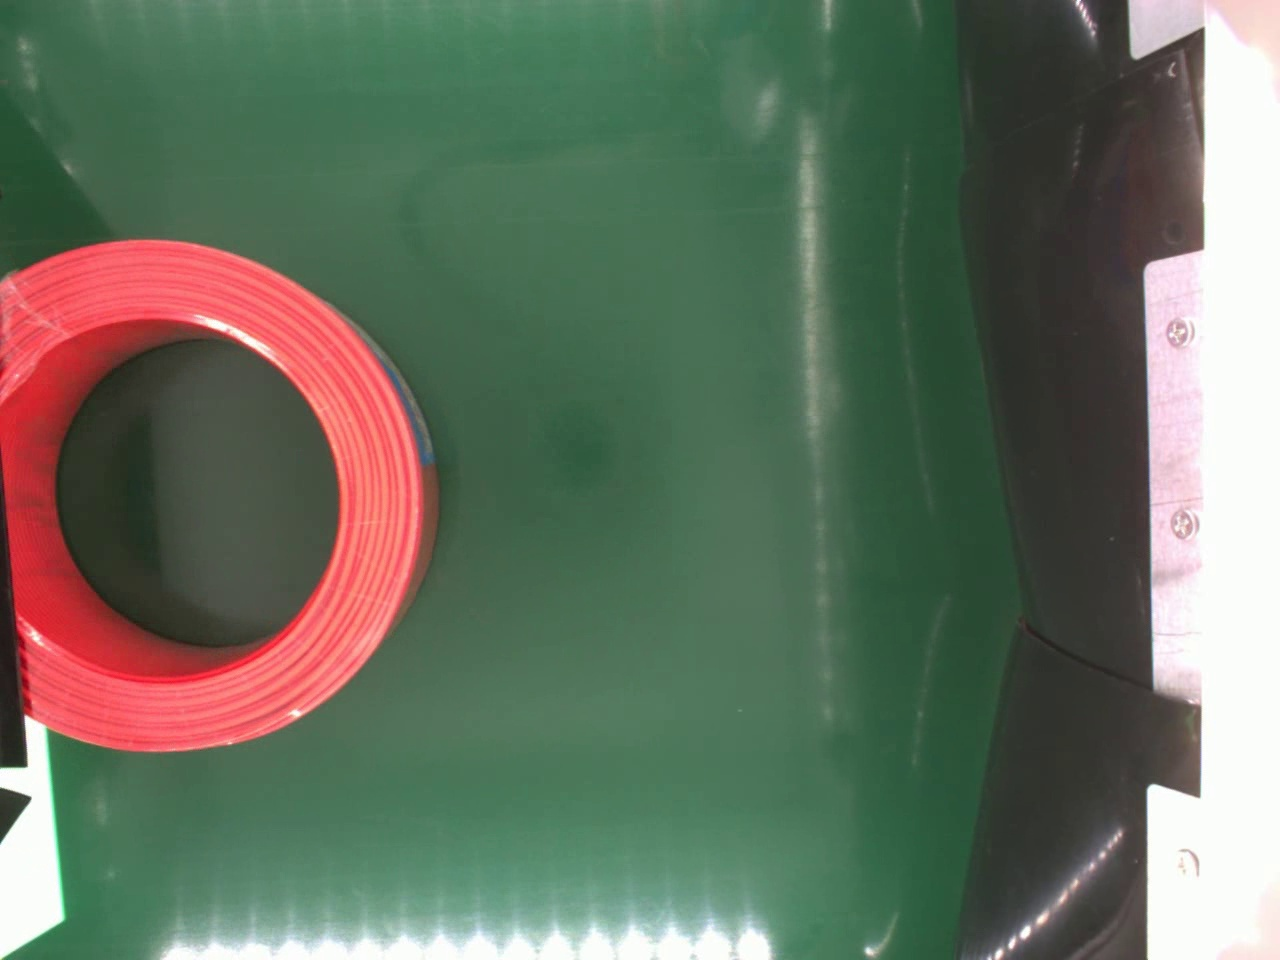red: (0, 235, 440, 752)
